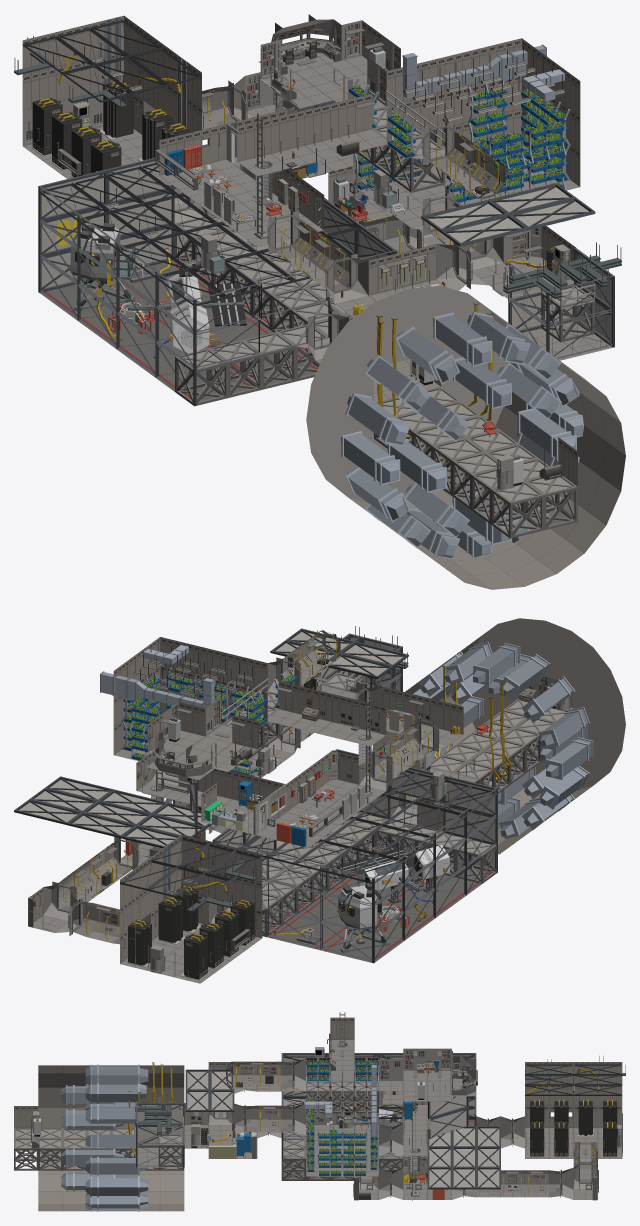
The model's file is ship.glb.
3 renders of one model, top to bottom at view 1: azimuth 30°, elevation 25°; view 2: azimuth 150°, elevation 25°; view 3: azimuth 270°, elevation 25°, orthographic. The views are drawn at different scales.
Parts seen in each view (by area): view 1: engine, engine.001, SM_Env_Large_Corner_01.003, SM_Env_Large_Corner_01.015, SM_Prop_Satellite_01.001, SM_Env_Large_Corner_01.021, SM_Env_Large_Corner_01.022, SM_Prop_Simulator_01.001, SM_Env_Large_Corner_01.008, SM_Env_Construction_Wall_01.036, SM_Env_Construction_Block_02.038, SM_Env_Construction_Block_02.022 (+76 smaller); view 2: engine, SM_Env_Large_Corner_01.001, engine.001, SM_Prop_Satellite_01.001, SM_Env_Large_Corner_01.024, SM_Prop_Simulator_01.001, SM_Env_Large_Corner_01.010, SM_Env_Construction_Floor_02.011, SM_Env_Construction_Wall_01.041, SM_Env_Construction_Wall_01.034, SM_Env_Construction_Block_02.022, SM_Env_Construction_Floor_02.004 (+70 smaller); view 3: engine, engine.001, SM_Env_Large_Corner_01.024, SM_Env_Large_Corner_01.001, SM_Env_Large_Corner_01.022, SM_Env_Large_Corner_01.003, SM_Env_Construction_Wall_01.001, SM_Env_Construction_Block_02.001, SM_Env_Construction_Block_02.019, SM_Env_Transition_Door_Curved_01_1.008, SM_Env_Transition_Door_Curved_01_1.000, SM_Env_Transition_Door_Curved_01_1.009 (+80 smaller).
Boxes of the visible parts, x1,y1,x2,y2 form: engine: (341, 311, 583, 559); engine.001: (387, 357, 576, 545); SM_Env_Large_Corner_01.003: (306, 289, 407, 419); SM_Env_Large_Corner_01.015: (505, 442, 625, 586); SM_Prop_Satellite_01.001: (127, 264, 246, 366); SM_Env_Large_Corner_01.021: (486, 428, 606, 572); SM_Env_Large_Corner_01.022: (306, 410, 426, 515); SM_Prop_Simulator_01.001: (70, 223, 136, 311); SM_Env_Large_Corner_01.008: (407, 286, 518, 386); SM_Env_Construction_Wall_01.036: (38, 169, 107, 222); SM_Env_Construction_Block_02.038: (491, 481, 543, 538); SM_Env_Construction_Block_02.022: (175, 348, 228, 405); engine: (413, 642, 593, 838); SM_Env_Large_Corner_01.001: (545, 620, 625, 724); engine.001: (449, 654, 587, 804); SM_Prop_Satellite_01.001: (336, 838, 449, 903); SM_Env_Large_Corner_01.024: (531, 715, 625, 799); SM_Prop_Simulator_01.001: (337, 883, 390, 952); SM_Env_Large_Corner_01.010: (449, 618, 545, 698); SM_Env_Construction_Floor_02.011: (267, 915, 348, 949); SM_Env_Construction_Wall_01.041: (443, 775, 497, 816); SM_Env_Construction_Wall_01.034: (443, 806, 497, 845); SM_Env_Construction_Block_02.022: (455, 839, 496, 883); SM_Env_Construction_Floor_02.004: (382, 882, 466, 917); engine: (85, 1064, 148, 1211); engine.001: (61, 1085, 123, 1191); SM_Env_Large_Corner_01.024: (38, 1107, 62, 1204); SM_Env_Large_Corner_01.001: (38, 1065, 62, 1107); SM_Env_Large_Corner_01.022: (160, 1167, 184, 1204); SM_Env_Large_Corner_01.003: (160, 1065, 184, 1102); SM_Env_Construction_Wall_01.001: (428, 1108, 468, 1139); SM_Env_Construction_Block_02.001: (158, 1134, 182, 1166); SM_Env_Construction_Block_02.019: (281, 1148, 305, 1180); SM_Env_Transition_Door_Curved_01_1.008: (281, 1059, 305, 1090); SM_Env_Transition_Door_Curved_01_1.000: (549, 1168, 573, 1199); SM_Env_Transition_Door_Curved_01_1.009: (281, 1104, 305, 1135).
Size of what is drawn, in the model's own units: 64.12 by 42.24 by 126.
1 material, 1 textured.
